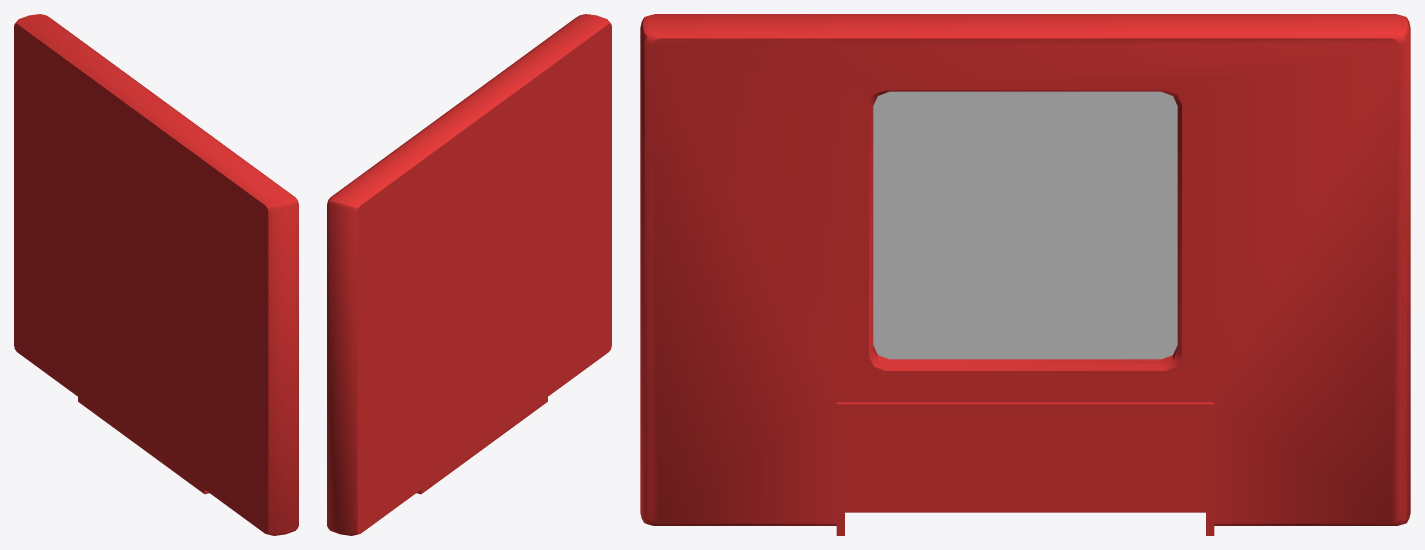
File: unit_base.fbx
The picture shows the model from 3 angles, left to right: view 1: azimuth 30°, elevation 25°; view 2: azimuth 150°, elevation 25°; view 3: azimuth 270°, elevation 25°; orthographic projection. The views are drawn at different scales.
Visible parts, largest first — view 1: low_poly_base; view 2: low_poly_base; view 3: low_poly_base.
Boxes of the visible parts, bbox=[...] form: low_poly_base: bbox=[14, 14, 298, 535]; low_poly_base: bbox=[327, 14, 611, 535]; low_poly_base: bbox=[640, 14, 1410, 535].
Size of the model in its own units: 0.3916 by 3.63 by 5.06.
